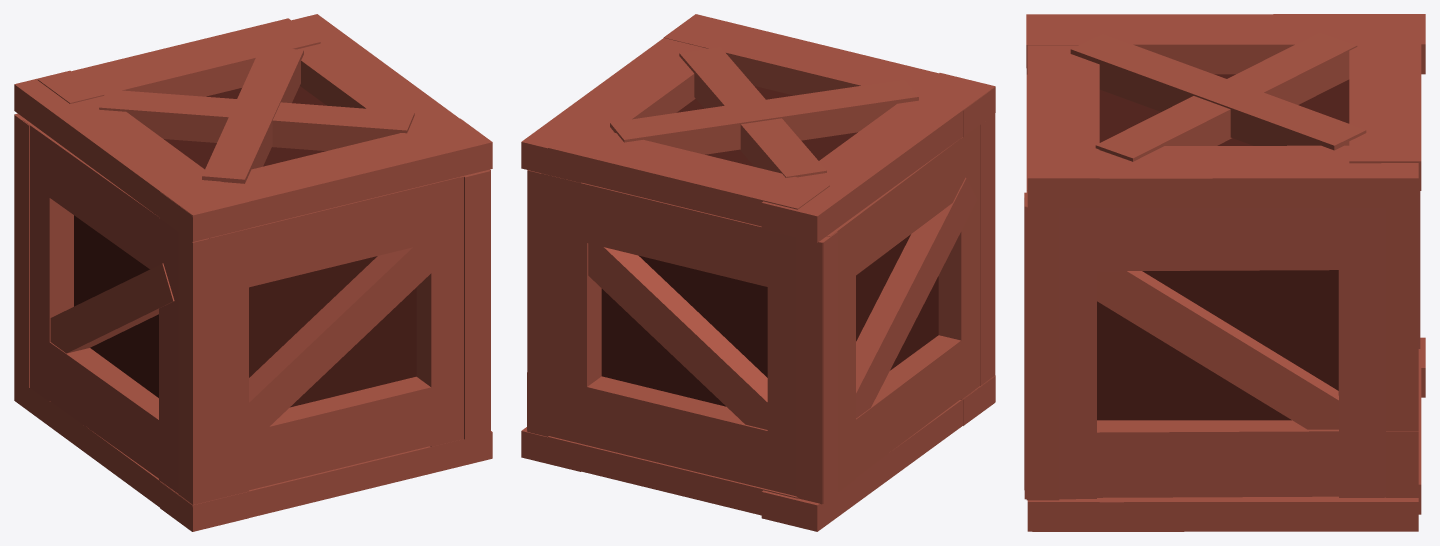
The model's file is Crate.glb.
3 views of the same model, side by side, from view 1: azimuth 30°, elevation 25°; view 2: azimuth 150°, elevation 25°; view 3: azimuth 270°, elevation 25° (orthographic). The views are drawn at different scales.
Parts seen in each view (by area): view 1: Cube.033, Cube; view 2: Cube.033, Cube; view 3: Cube.033, Cube.
Boxes of the visible parts, x1,y1,x2,y2 form: Cube.033: [14, 14, 492, 531]; Cube: [74, 86, 416, 407]; Cube.033: [521, 14, 995, 531]; Cube: [601, 86, 938, 406]; Cube.033: [1024, 14, 1425, 531]; Cube: [1097, 74, 1349, 420].
Size of the model in its own units: 2.42 by 2.45 by 2.48.
